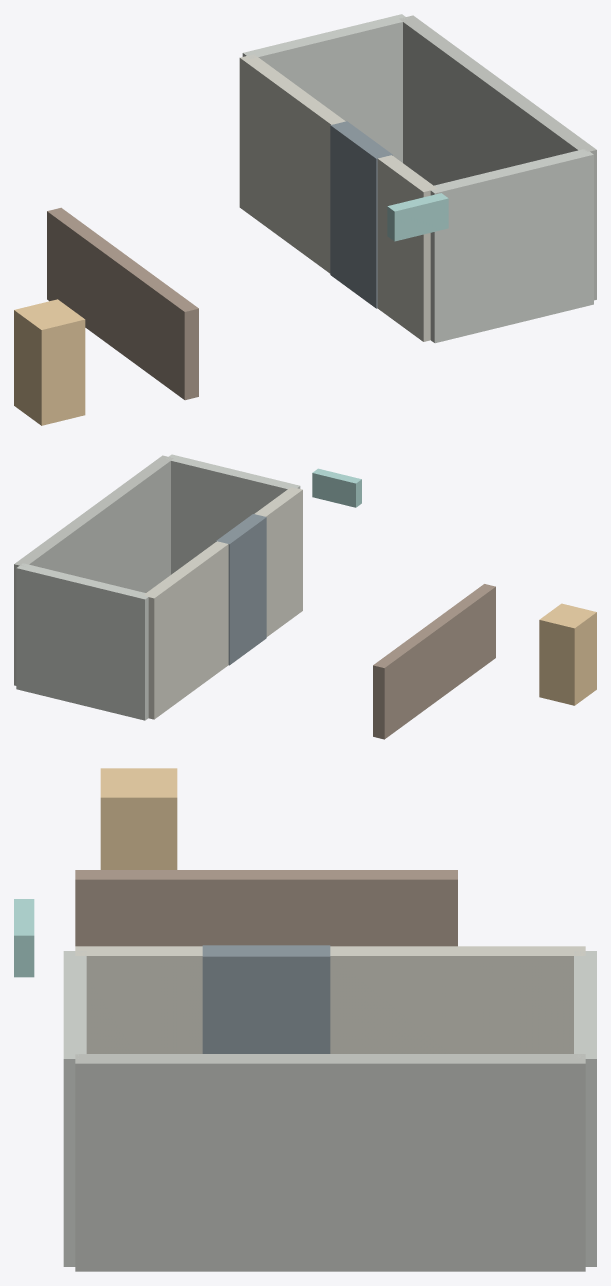
3 views of the same model, one above another, from view 1: azimuth 30°, elevation 25°; view 2: azimuth 150°, elevation 25°; view 3: azimuth 270°, elevation 25° (orthographic). The views are drawn at different scales.
Visible parts, largest first — view 1: l01_wall_north, l01_wall_east, l01_fence, l01_wall_west_south, l01_wall_south, l01_mailbox, l01_door_main, l01_wall_west_north, l01_sign; view 2: l01_wall_south, l01_wall_east, l01_wall_west_south, l01_fence, l01_wall_north, l01_mailbox, l01_door_main, l01_wall_west_north, l01_sign; view 3: l01_wall_east, l01_fence, l01_wall_west_south, l01_door_main, l01_wall_west_north, l01_mailbox, l01_wall_north, l01_wall_south, l01_sign.
Boxes of the visible parts, x1,y1,x2,y2 form: l01_wall_north: (430,149,593,343); l01_wall_east: (399,15,596,300); l01_fence: (47,207,198,400); l01_wall_west_south: (239,54,345,273); l01_wall_south: (242,14,407,162); l01_mailbox: (14,299,85,425); l01_door_main: (330,121,392,308); l01_wall_west_north: (377,155,437,341); l01_sign: (387,193,448,241); l01_wall_south: (16,563,148,720); l01_wall_east: (14,455,173,685); l01_wall_west_south: (144,541,228,719); l01_fence: (373,584,495,739); l01_wall_north: (166,454,300,574); l01_mailbox: (539,603,596,705); l01_door_main: (216,514,266,665); l01_wall_west_north: (254,487,302,636); l01_sign: (312,468,361,507); l01_wall_east: (75,1054,585,1271); l01_fence: (75,870,457,946); l01_wall_west_south: (330,946,585,1053); l01_door_main: (202,945,330,1053); l01_wall_west_north: (75,946,202,1053); l01_mailbox: (100,768,177,869); l01_wall_north: (63,951,86,1266); l01_wall_south: (574,951,596,1266); l01_sign: (14,899,34,977).
Size of the model in its own units: 6.87 by 1.91 by 4.57.
